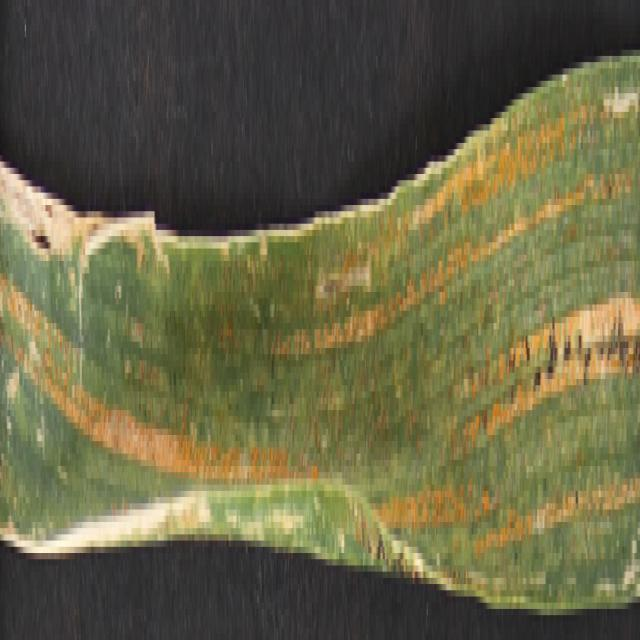leaf rust: (130, 93, 640, 565), (1, 267, 125, 497)
